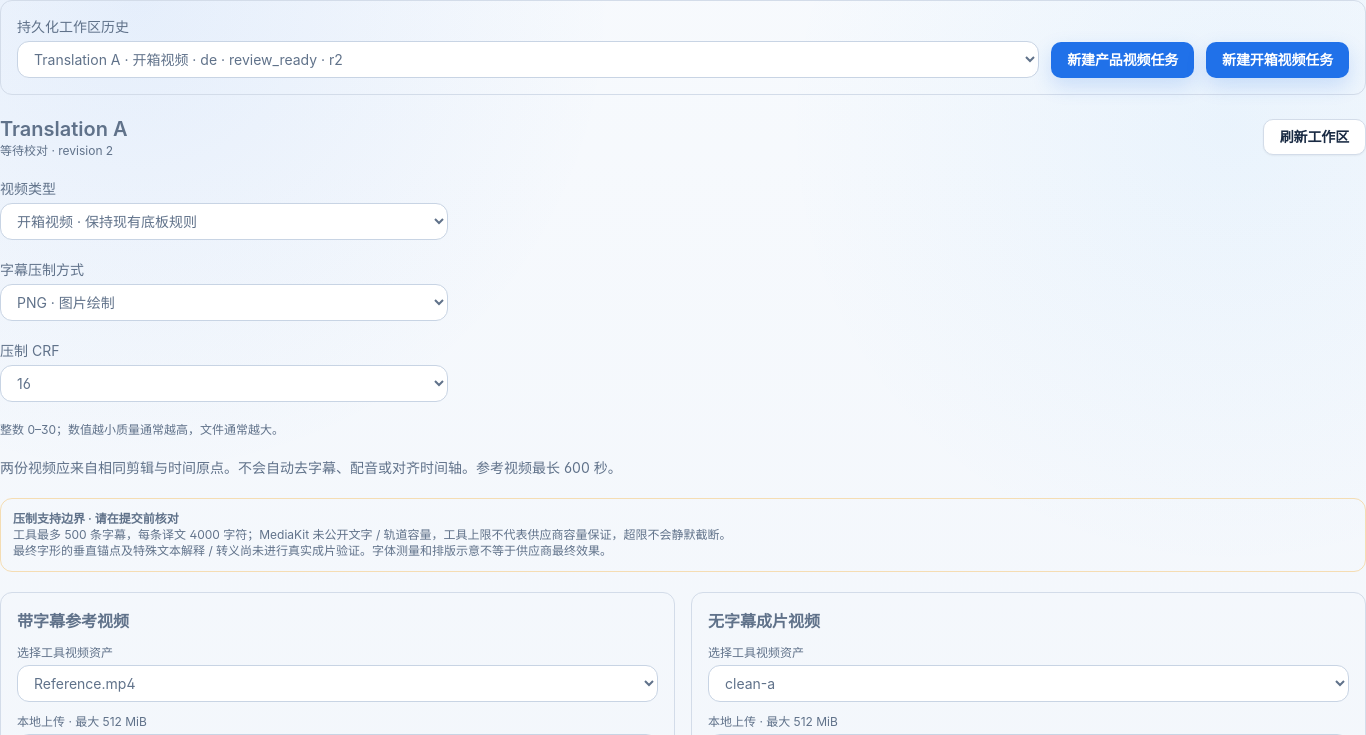
Test: subtitle workspace › isolates late selection responses and clears previous previews while loading
Expected: the heading "Translation A" is shown, [0,115,128,143]
Select "Translation B · 开箱视频 · de · review_ready · r2" in the dropdown named "字幕工作区历史". click: (528, 60)
box: [17,41,1039,78]
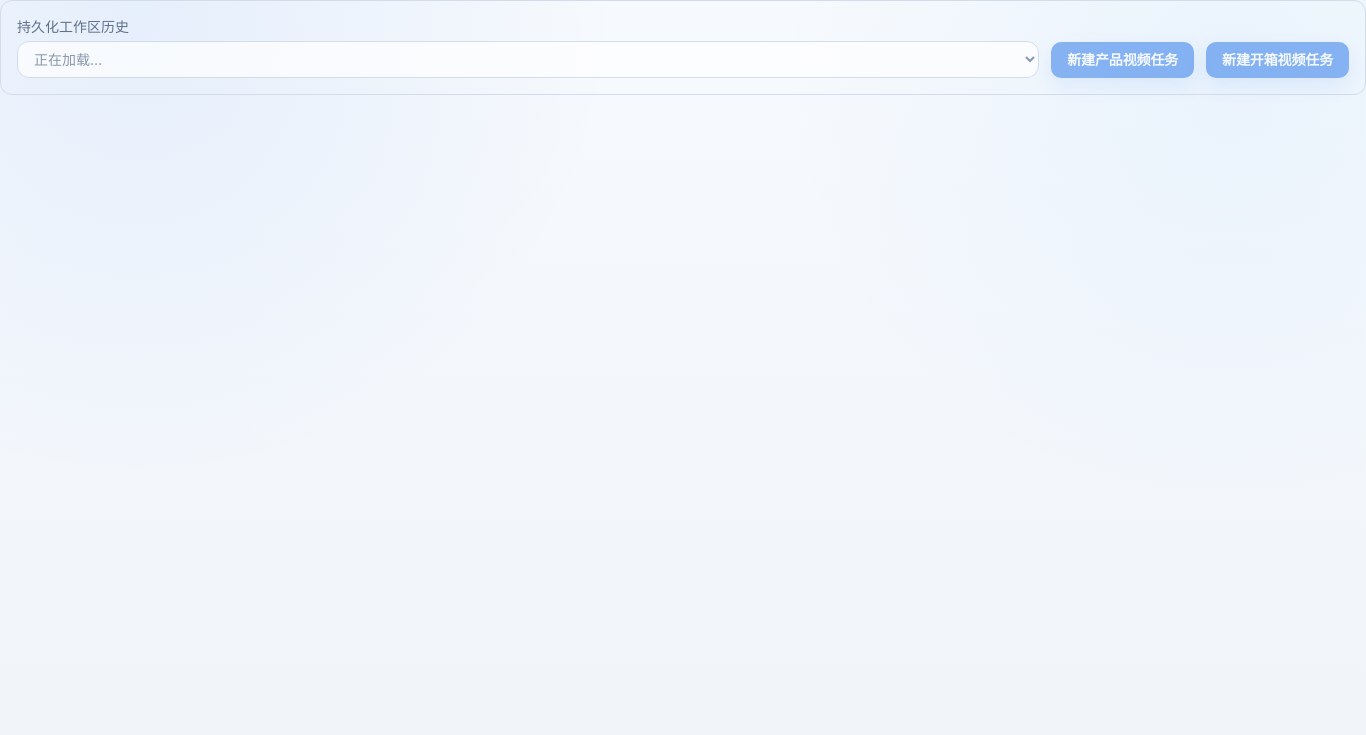
Expected: the heading "Translation A" is gone
Select "Translation C · 开箱视频 · de · review_ready · r2" in the dropdown named "字幕工作区历史". click: (528, 60)
box: [17,41,1039,78]
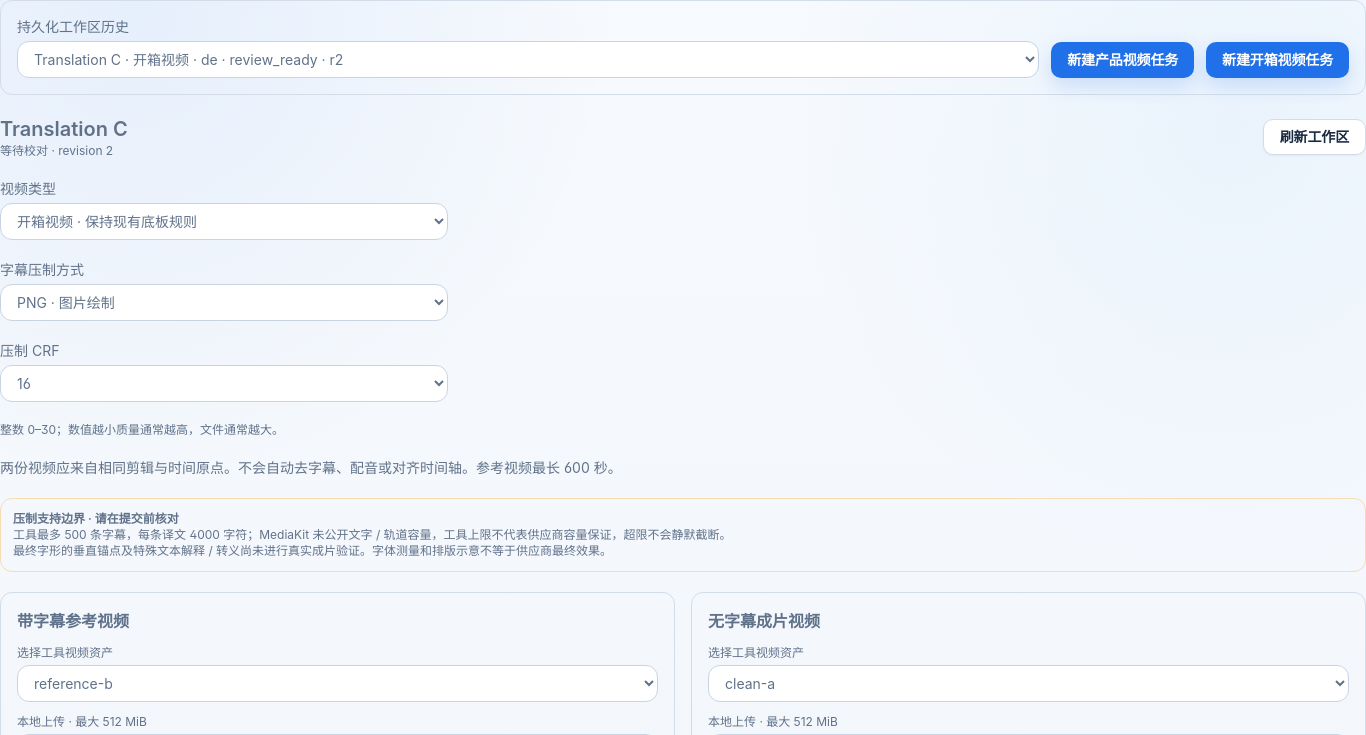
Expected: the heading "Translation C" is shown, [0,115,128,143]
